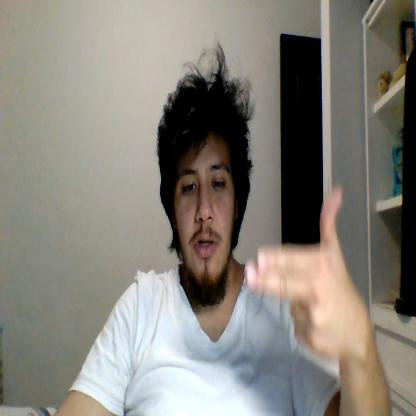H: (246, 184, 356, 359)
